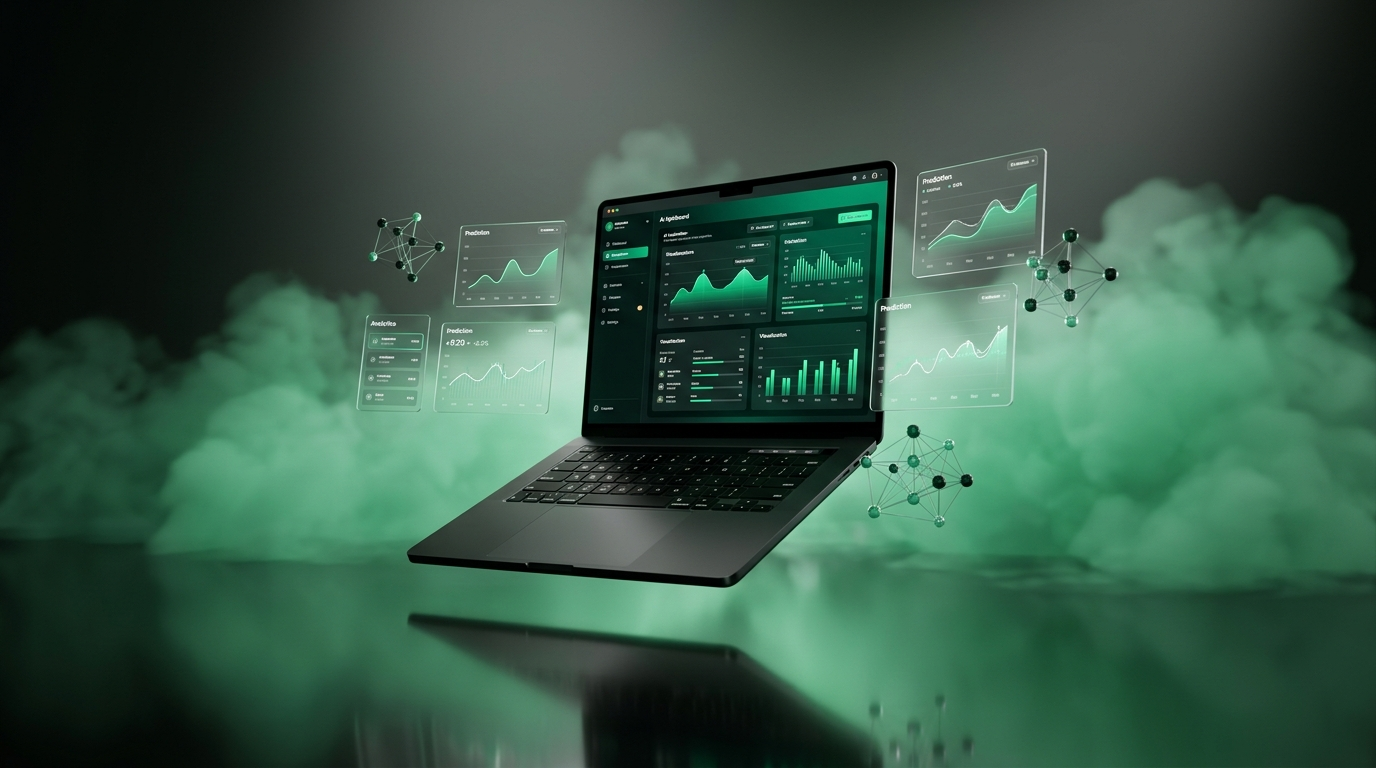

What the dashboard file says about the page in this screenshot:
{"tool":"powerbi","page":{"name":"Executive Overview&Booing Performance","canvas":[1920,1080],"ordinal":0},"visuals":[{"type":"textbox","box":[10.3,0,1910.1,98.8],"z":0},{"type":"cardVisual","fields":{"Data":["hotel_bookings.Total Revenue"]},"box":[0,97.9,474,138],"z":1000},{"type":"cardVisual","fields":{"Data":["hotel_bookings.AVG ADR"]},"box":[474,97.9,496.2,138],"z":2000},{"type":"cardVisual","fields":{"Data":["hotel_bookings.Total Booking"]},"box":[959.1,97.9,487.3,138],"z":3000},{"type":"cardVisual","fields":{"Data":["hotel_bookings.Total Cancellations"]},"box":[1446.5,97.9,474,138],"z":4000},{"type":"slicer","fields":{"Values":["hotel_bookings.hotel"]},"box":[0,235.9,821.1,133.5],"z":5000},{"type":"slicer","fields":{"Values":["hotel_bookings.customer_type"]},"box":[794.4,235.9,1126,133.5],"z":6000},{"type":"slicer","fields":{"Values":["hotel_bookings.Arrival_Date.Variation.Date Hierarchy.Month"]},"box":[0,369.4,1920.5,144.6],"z":7000},{"type":"areaChart","fields":{"Category":["hotel_bookings.Arrival_Date.Variation.Date Hierarchy.Month"],"Y":["hotel_bookings.Total Revenue"]},"box":[0,515.8,964.5,564.6],"z":8000},{"type":"clusteredBarChart","fields":{"Category":["hotel_bookings.market_segment"],"Y":["Sum(hotel_bookings.ADR)"]},"box":[964.5,513.9,955.5,566.4],"z":9000},{"type":"actionButton","box":[0,0,240,96],"z":10000}]}

Visuals, with their boxes in screenshot pixels (x1, y1, x2, y2), scaled from the page's 1920x1080 canvas onto the 1376x768 screenshot:
textbox: x1=7 y1=0 x2=1375 y2=70
cardVisual - hotel_bookings.Total Revenue: x1=0 y1=70 x2=340 y2=168
cardVisual - hotel_bookings.AVG ADR: x1=340 y1=70 x2=695 y2=168
cardVisual - hotel_bookings.Total Booking: x1=687 y1=70 x2=1037 y2=168
cardVisual - hotel_bookings.Total Cancellations: x1=1037 y1=70 x2=1375 y2=168
slicer - hotel_bookings.hotel: x1=0 y1=168 x2=588 y2=263
slicer - hotel_bookings.customer_type: x1=569 y1=168 x2=1375 y2=263
slicer - hotel_bookings.Arrival_Date.Variation.Date Hierarchy.Month: x1=0 y1=263 x2=1375 y2=366
areaChart - hotel_bookings.Arrival_Date.Variation.Date Hierarchy.Month x hotel_bookings.Total Revenue: x1=0 y1=367 x2=691 y2=767
clusteredBarChart - hotel_bookings.market_segment x Sum(hotel_bookings.ADR): x1=691 y1=365 x2=1375 y2=767
actionButton: x1=0 y1=0 x2=172 y2=68
